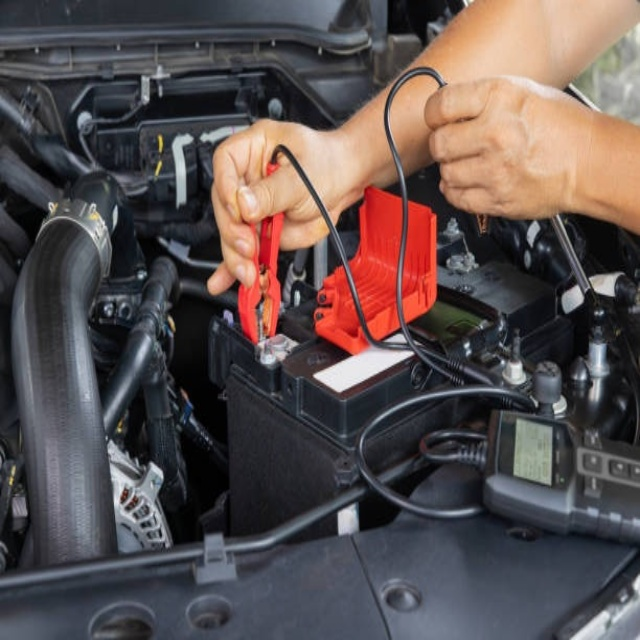Sin_guantes: (419, 74, 594, 228), (204, 119, 349, 299)
